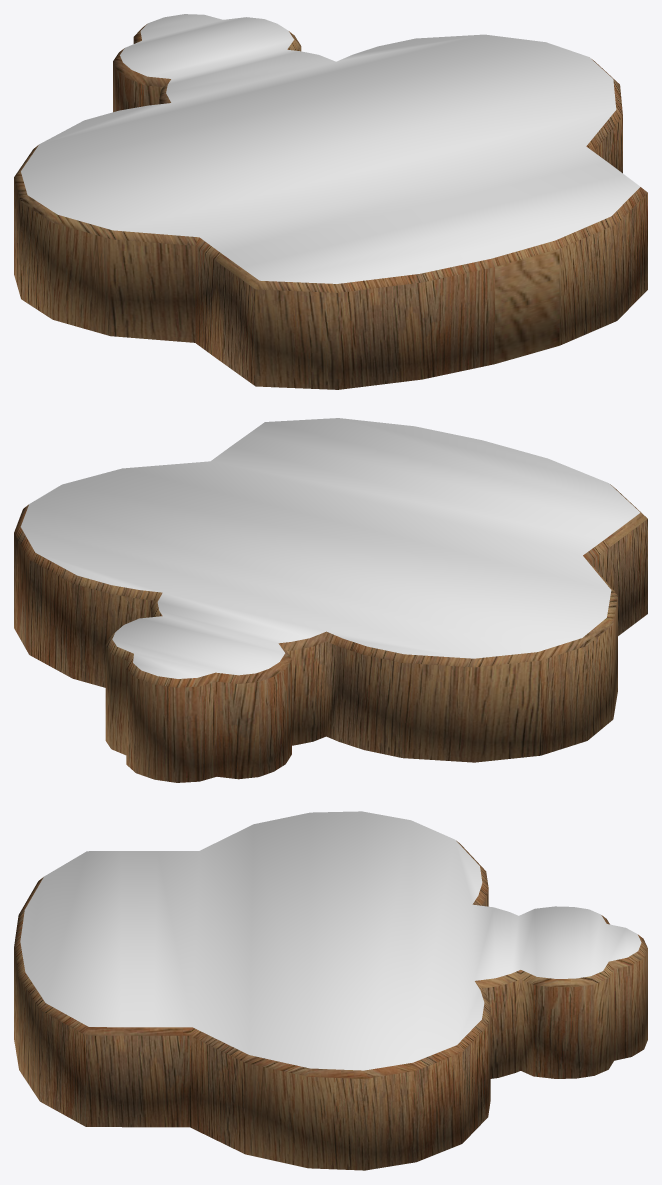
File: flat3dpieces-king.gltf
3 renders of one model, top to bottom at view 1: azimuth 30°, elevation 25°; view 2: azimuth 150°, elevation 25°; view 3: azimuth 270°, elevation 25°, orthographic. The views are drawn at different scales.
Size of the model in its own units: 1.49 by 0.255 by 1.51.
2 materials, 1 textured.
